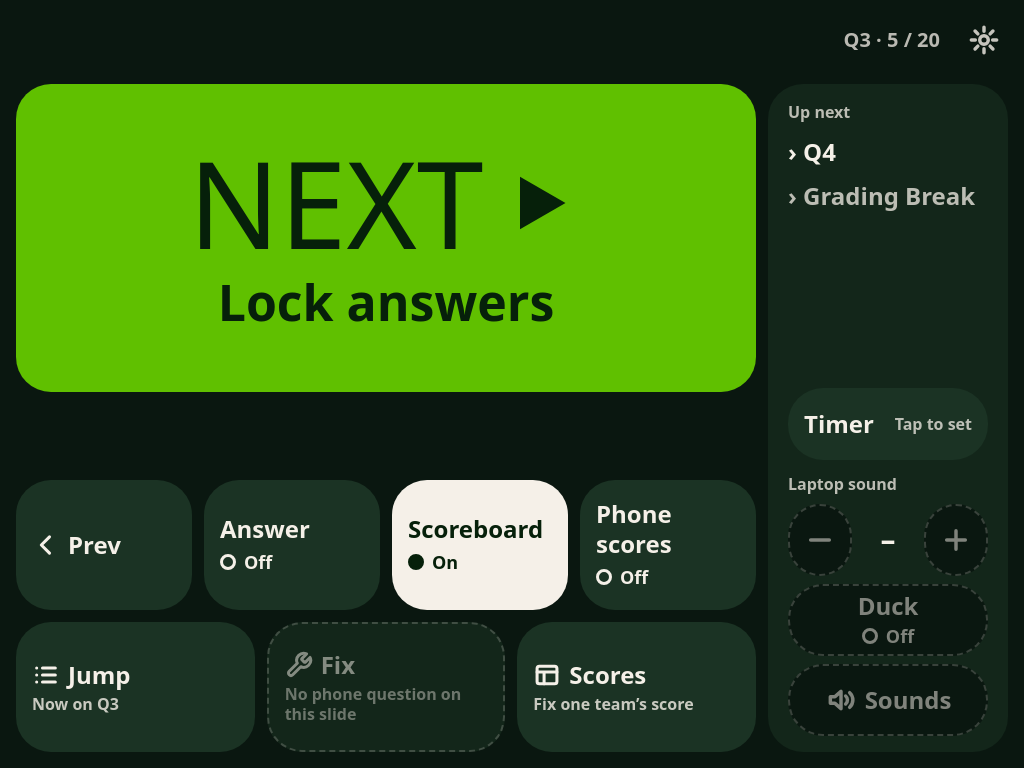
Scenario: /remote Scores drawer (dispute fixes) › closed by default: nothing asked for; opening asks the laptop once
Click the button "Scores Fix one team’s score": (637, 687) [517, 622, 756, 752]
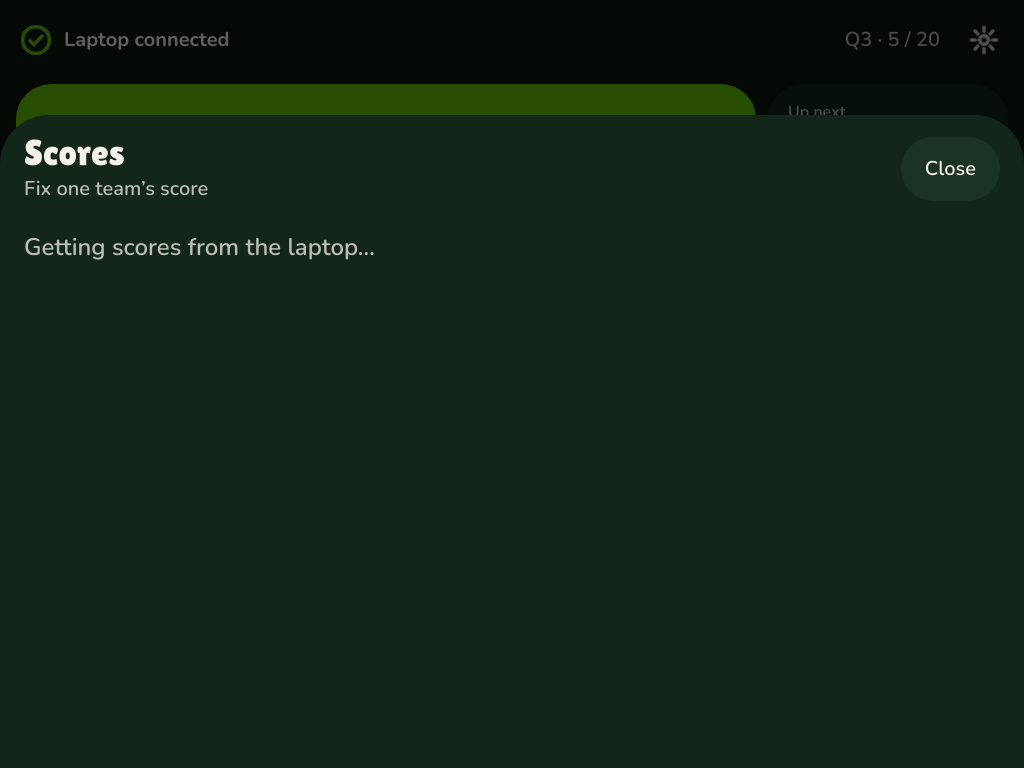
Check: the text "Getting scores from the laptop" is shown, box [24, 231, 375, 263]
